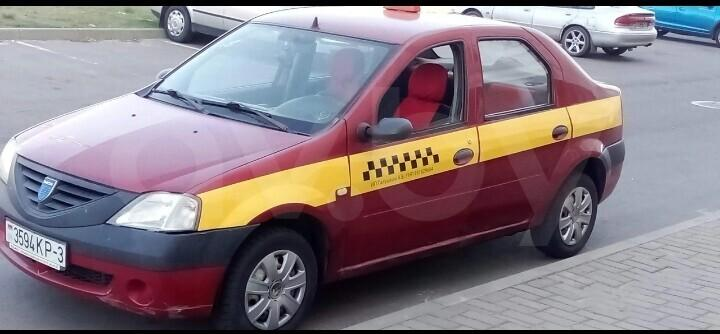Logan_2004-2009: (0, 4, 625, 334)
